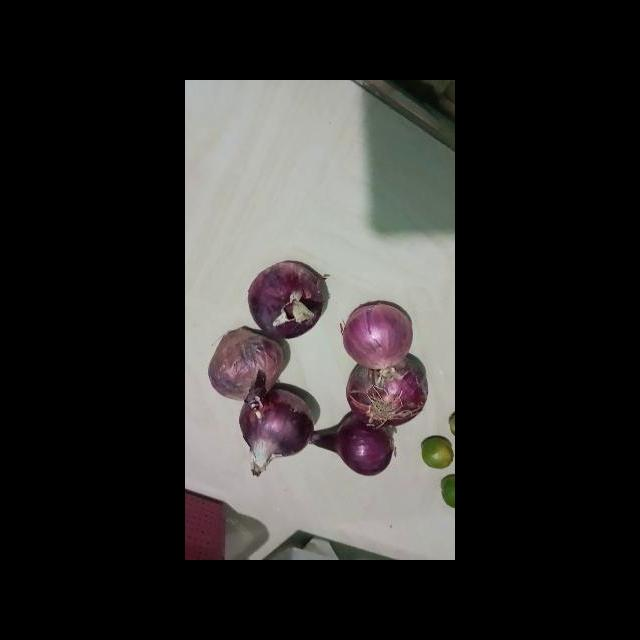onion: (235, 391, 315, 476), (247, 261, 330, 339), (208, 330, 281, 418), (343, 353, 429, 427), (309, 414, 399, 483), (340, 302, 413, 370)
